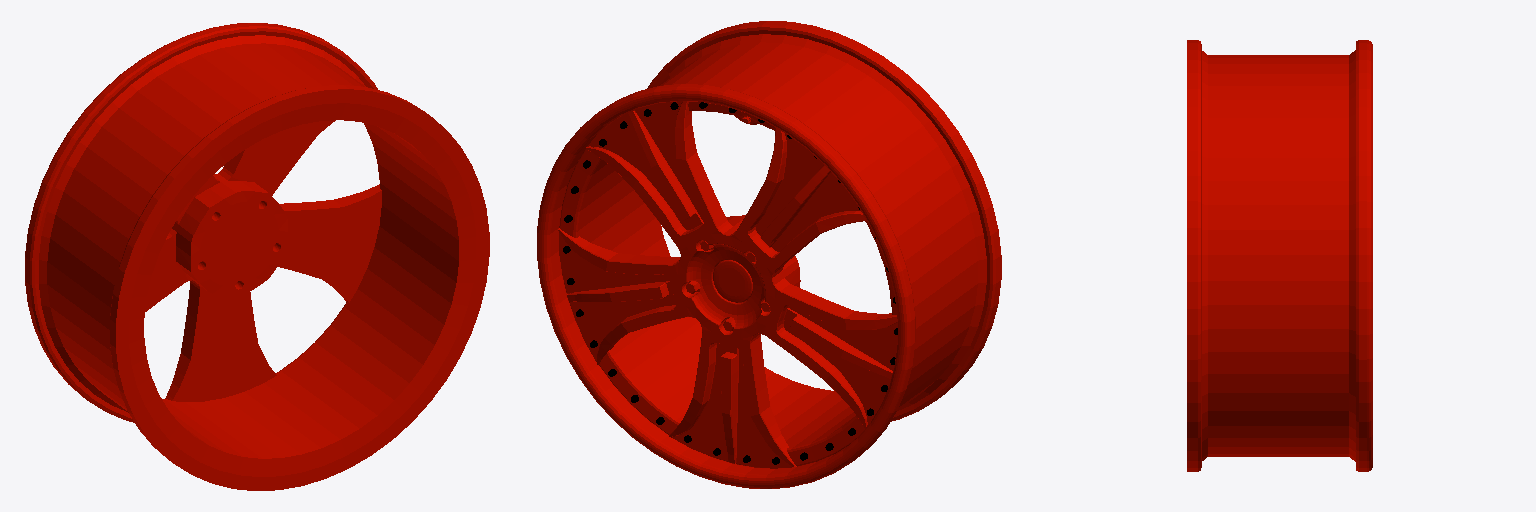
3 renders of one model, left to right at view 1: azimuth 30°, elevation 25°; view 2: azimuth 150°, elevation 25°; view 3: azimuth 270°, elevation 25°, orthographic.
Parts seen in each view (by area): view 1: rim_rim_Metal_-_Aluminium, rim_center_rim_center_Metal_-_Aluminium; view 2: rim_rim_Metal_-_Aluminium, rim_center_rim_center_Metal_-_Aluminium, Small_Bolts_Small_Bolts_Bolts; view 3: rim_rim_Metal_-_Aluminium.
Part boxes in pixels (x1,y1,x2,y2): rim_rim_Metal_-_Aluminium: (25,23,489,490); rim_center_rim_center_Metal_-_Aluminium: (145,120,381,401); rim_rim_Metal_-_Aluminium: (537,21,1001,488); rim_center_rim_center_Metal_-_Aluminium: (558,101,897,468); Small_Bolts_Small_Bolts_Bolts: (563,102,897,464); rim_rim_Metal_-_Aluminium: (1187,40,1372,471).
Size of the model in its own units: 2.74 by 2.74 by 1.18.
Materials: 2 (1 with a texture image).